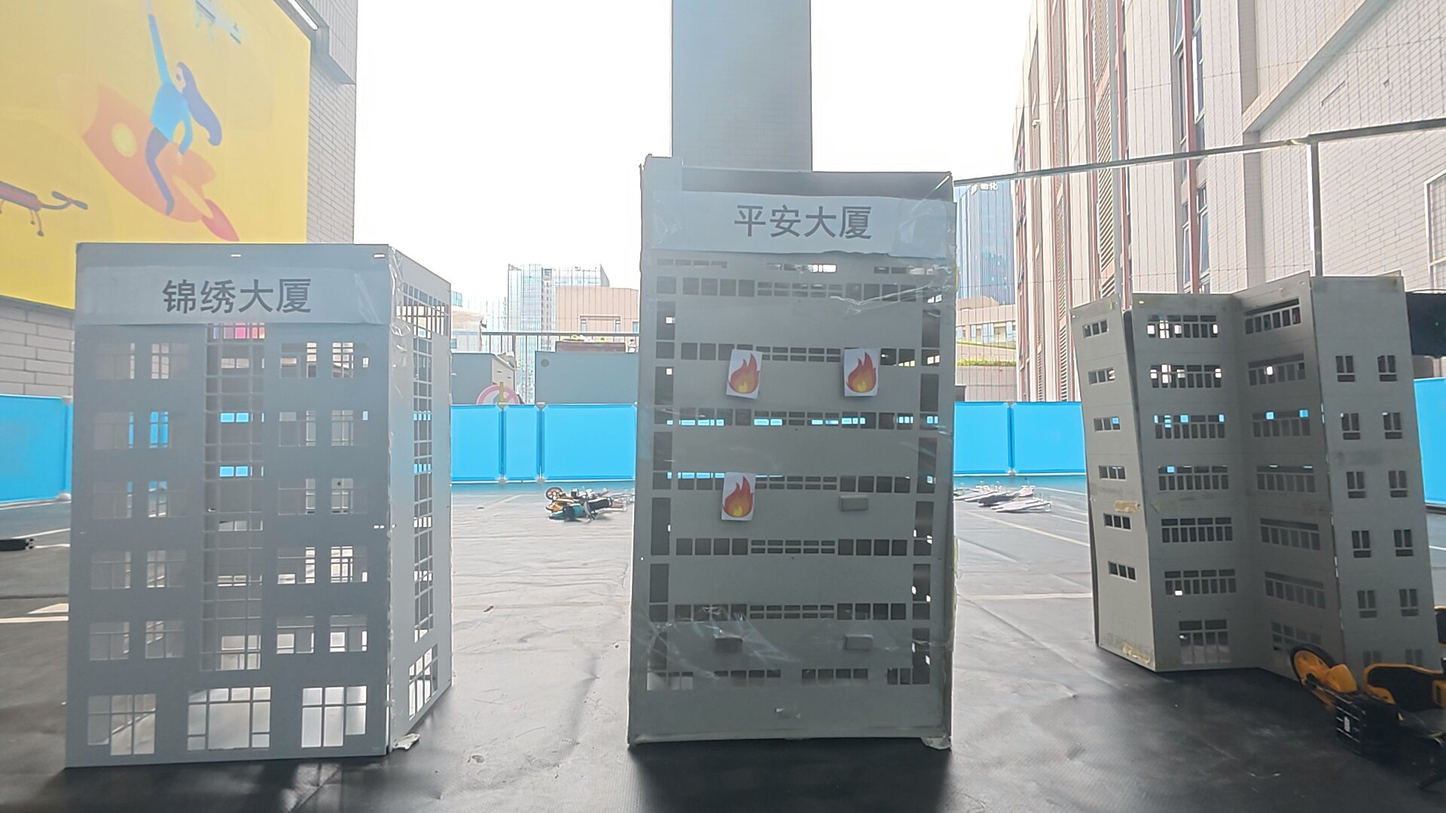fire: (843, 348, 883, 397), (721, 472, 759, 521), (727, 349, 763, 398)
